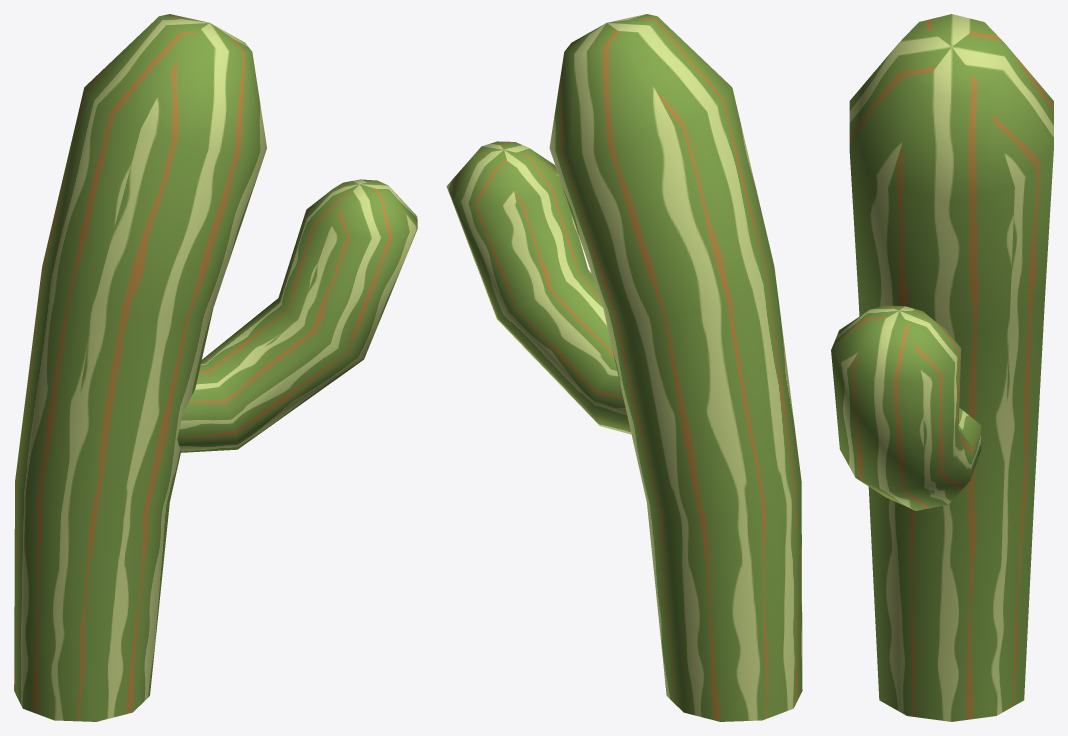
The model's file is cactus03.FBX.
3 renders of one model, left to right at view 1: azimuth 30°, elevation 25°; view 2: azimuth 150°, elevation 25°; view 3: azimuth 270°, elevation 25°, orthographic. The views are drawn at different scales.
Parts seen in each view (by area): view 1: cactus03, kqtus06; view 2: cactus03, kqtus06; view 3: cactus03, kqtus06.
Boxes of the visible parts, <box> form: cactus03: <box>14,14,266,721</box>; kqtus06: <box>177,179,417,452</box>; cactus03: <box>549,14,802,721</box>; kqtus06: <box>446,141,631,434</box>; cactus03: <box>849,14,1053,721</box>; kqtus06: <box>831,305,981,510</box>.
Size of the model in its own units: 213 by 363 by 101.
